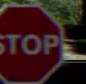Stop: (0, 3, 69, 80)
